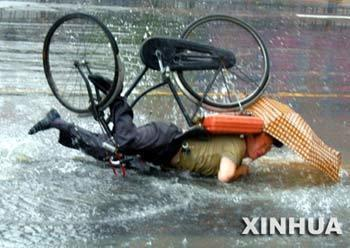fall: (27, 73, 289, 194)
